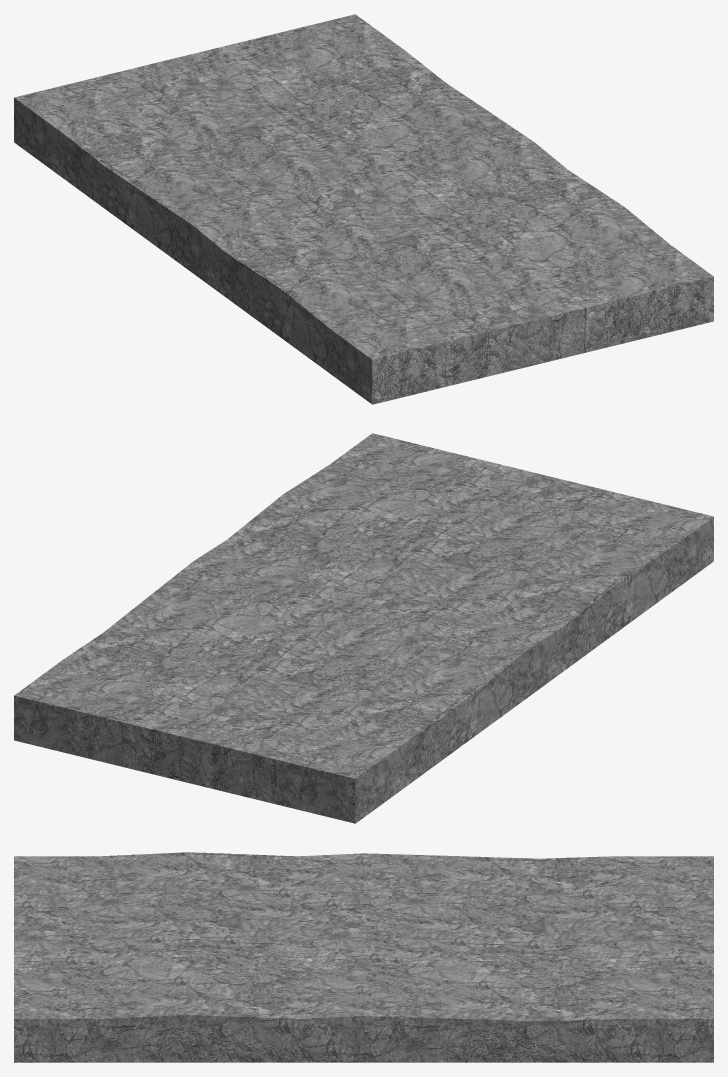
File: materials_3_road_8.fbx
The picture shows the model from 3 angles, top to bottom: view 1: azimuth 30°, elevation 25°; view 2: azimuth 150°, elevation 25°; view 3: azimuth 270°, elevation 25°; orthographic projection. The views are drawn at different scales.
Parts seen in each view (by area): view 1: materials_3_road_8; view 2: materials_3_road_8; view 3: materials_3_road_8.
Part boxes in pixels (x1,y1,x2,y2): materials_3_road_8: [14, 14, 713, 404]; materials_3_road_8: [14, 433, 713, 823]; materials_3_road_8: [14, 852, 713, 1062].
Size of the model in its own units: 234 by 32.09 by 425.
